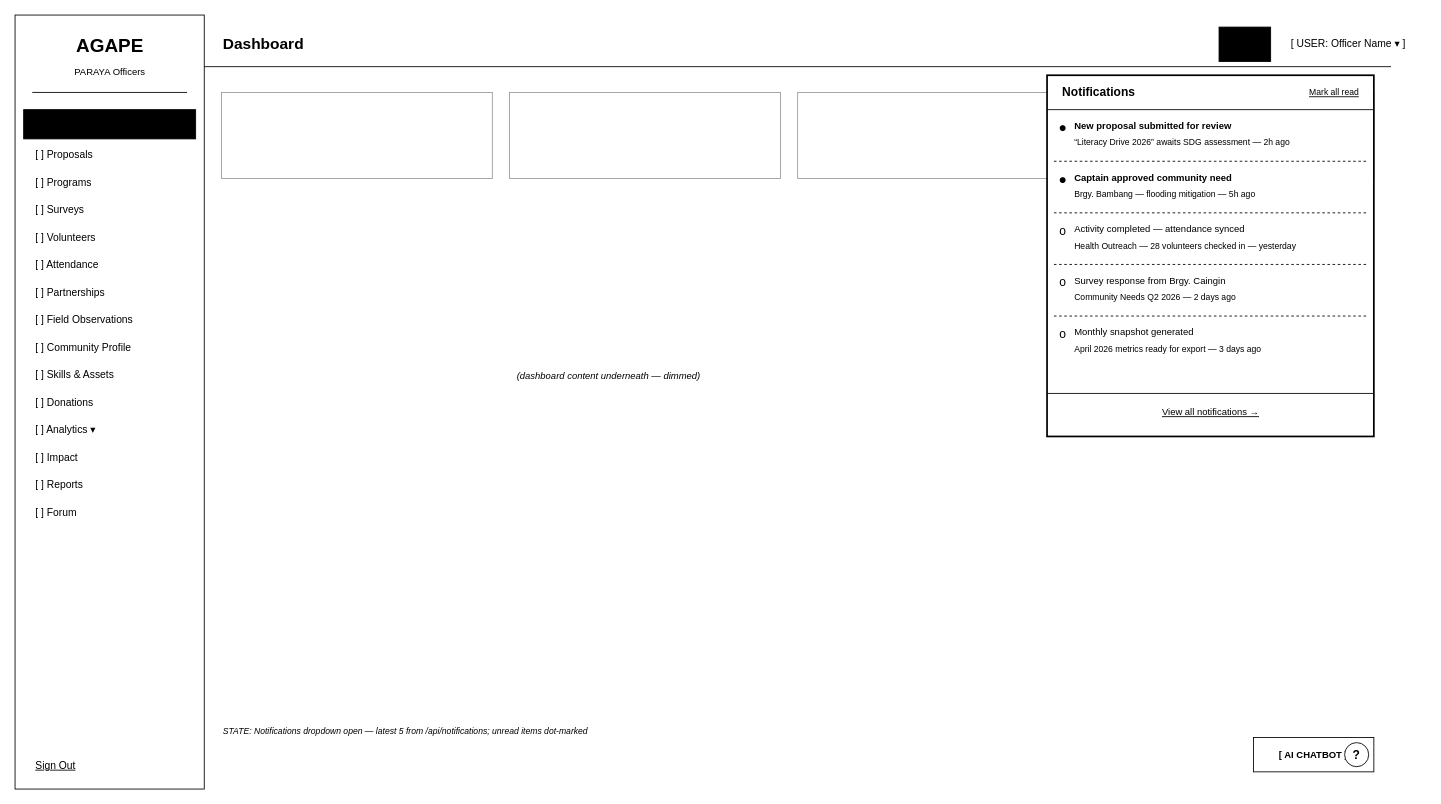
This 1441x804 diagram has some shape labels left out. Each missing label, with the centre of its shape:
"[ BELL* ]" belongs at point (1244, 43).
"[x] Dashboard" belongs at point (109, 124).
